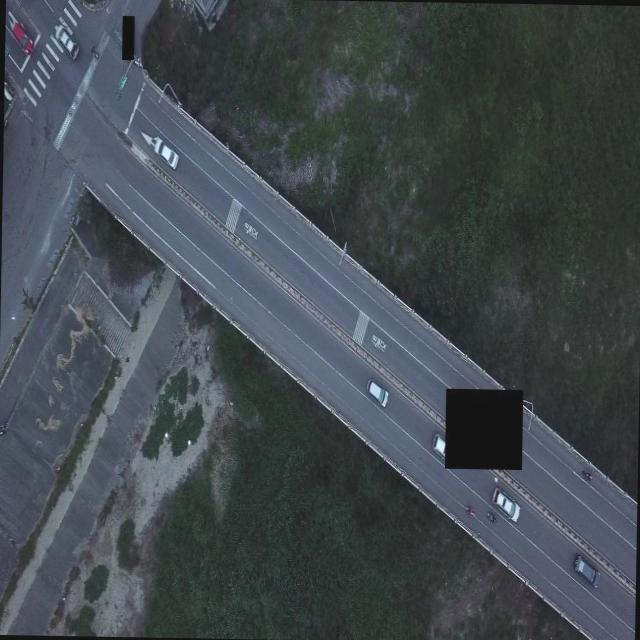bike: (580, 468, 594, 487), (463, 503, 478, 520), (484, 509, 496, 528), (87, 41, 99, 60)
car: (571, 550, 599, 586), (150, 136, 179, 170), (493, 488, 520, 522), (56, 22, 79, 58), (11, 20, 34, 55), (366, 376, 389, 408), (431, 432, 445, 468)
